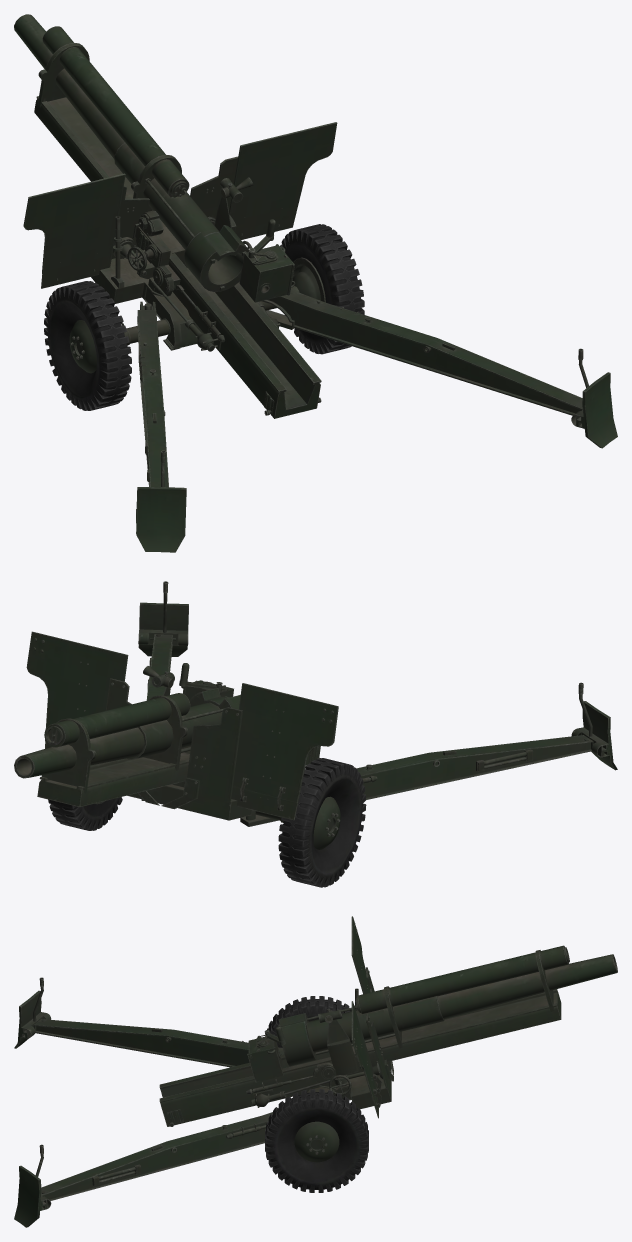
Rendered from artillery.glb.
3 renders of one model, top to bottom at view 1: azimuth 30°, elevation 25°; view 2: azimuth 150°, elevation 25°; view 3: azimuth 270°, elevation 25°, orthographic. The views are drawn at different scales.
Parts seen in each view (by area): view 1: HowitzerNew_HowitzerNewShader_0; view 2: HowitzerNew_HowitzerNewShader_0; view 3: HowitzerNew_HowitzerNewShader_0.
Part boxes in pixels (x1=…): HowitzerNew_HowitzerNewShader_0: x1=14, y1=14, x2=617, y2=552; HowitzerNew_HowitzerNewShader_0: x1=14, y1=581, x2=617, y2=887; HowitzerNew_HowitzerNewShader_0: x1=14, y1=916, x2=617, y2=1227.
Bounding box in the file's own units: 3.73 × 1.78 × 4.99.
Materials: 1 (1 with a texture image).
